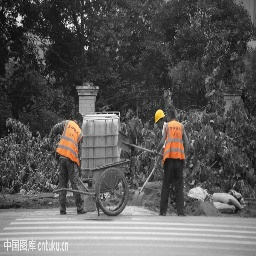helmet: (154, 109, 166, 130)
person: (46, 113, 84, 216)
vest: (63, 121, 81, 162), (166, 120, 184, 158)
